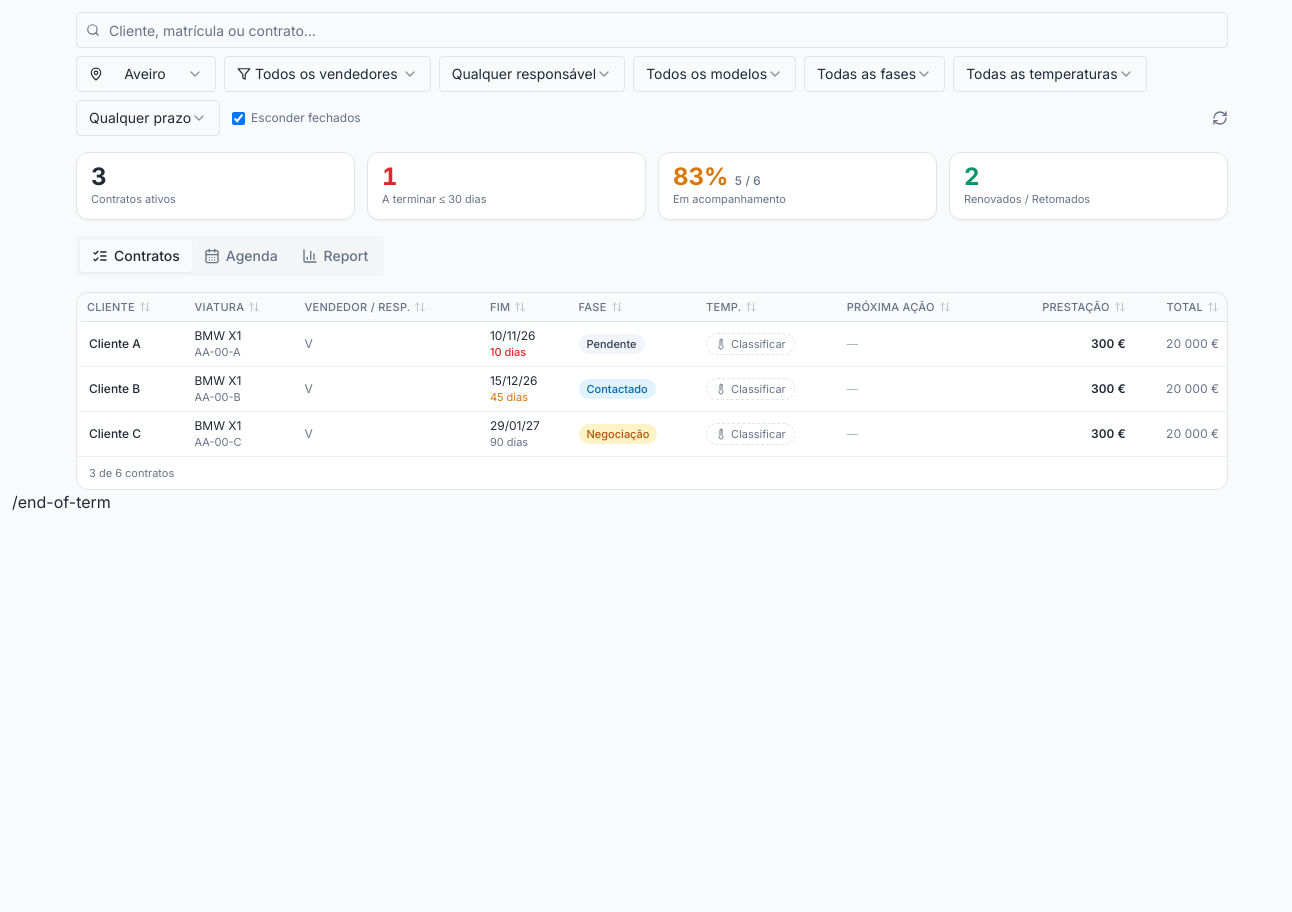
it: EndOfTermPage — Report › mostra as oportunidades abertas (3) e respeita "Esconder fechados"
This screenshot has width=1292, height=912.
Press the mouse on the tab "Report": (335, 256) [290,240,380,272]
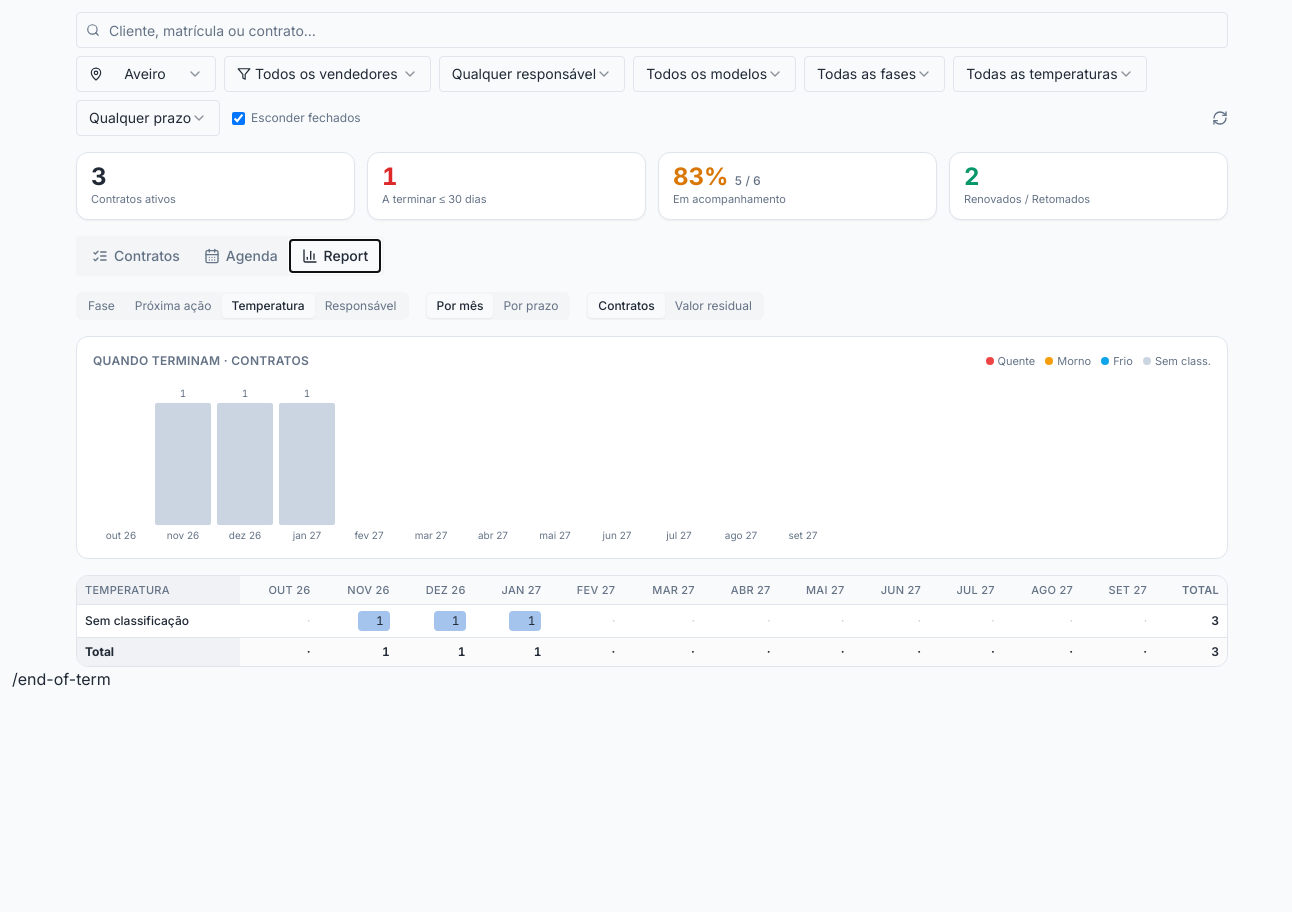
Expected: the 2nd cell "3" is shown, [1155,637,1227,666]
Now the row "Sem classificação · 1 1 1 · · · · · · · · 3" is shown, box [77,604,1227,637]
Click the checkbox labelled "Esconder fechados": click(239, 118) [232,112,245,124]
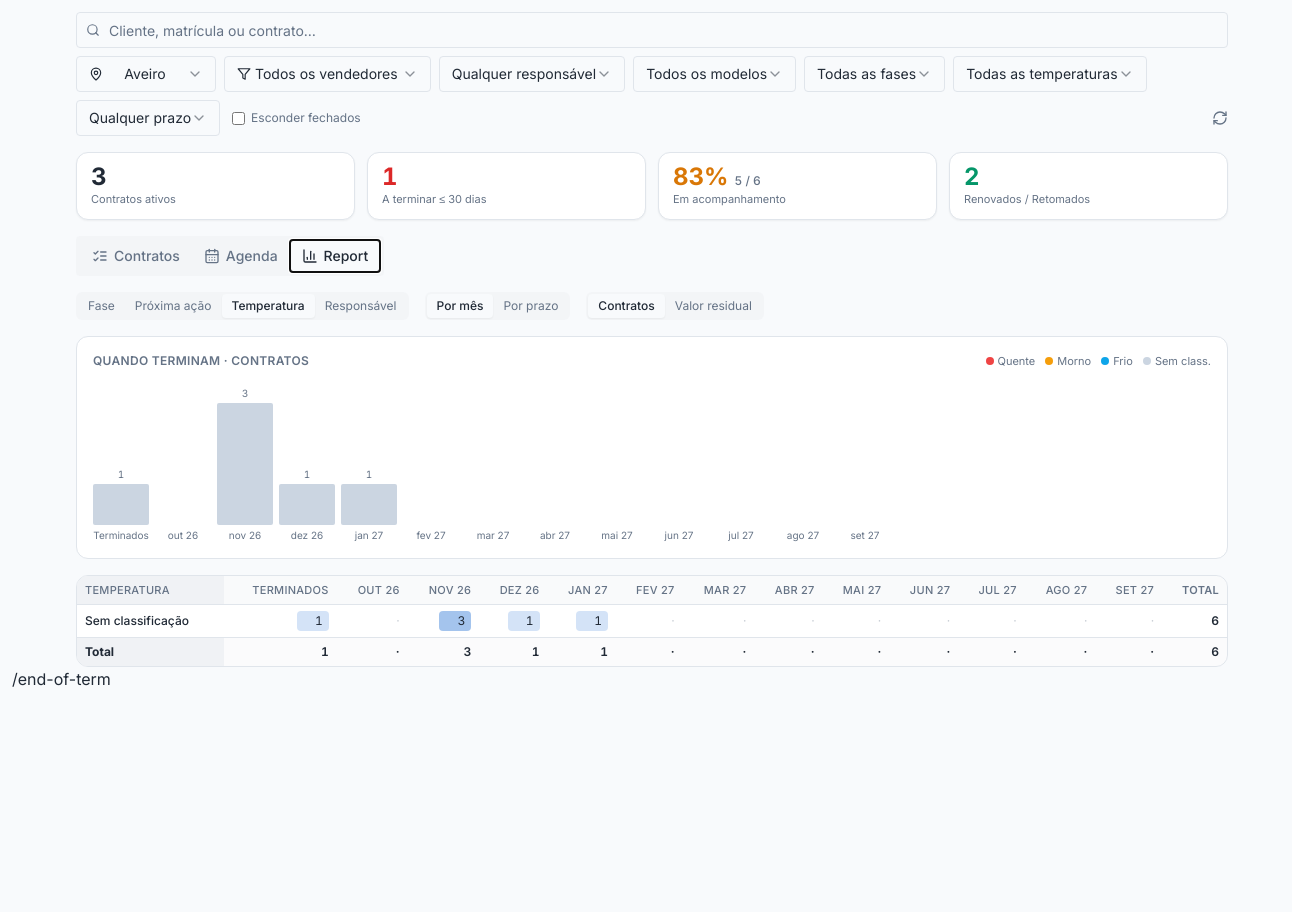
Now the 2nd cell "6" is shown, box [1162,637,1227,666]
